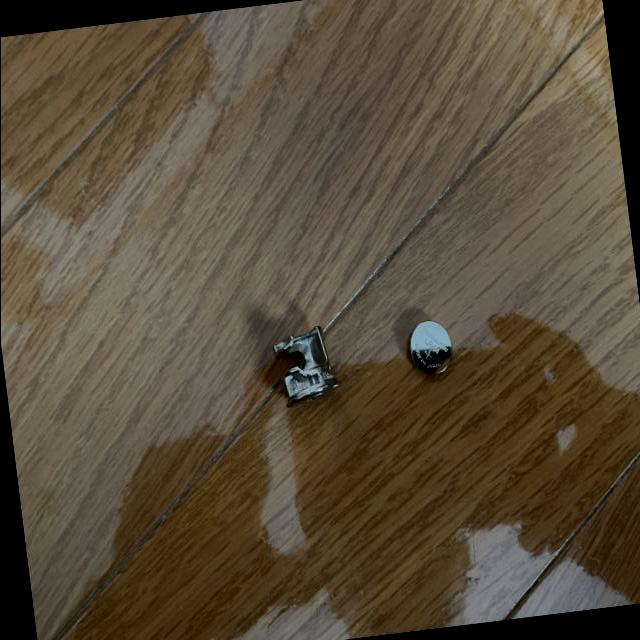COIN: (407, 317, 456, 378)
